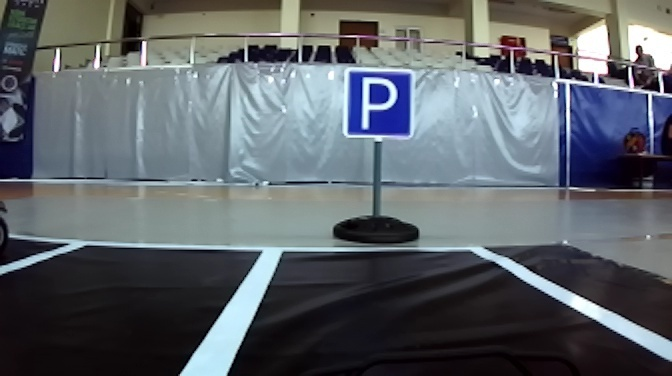park: (342, 65, 413, 138)
